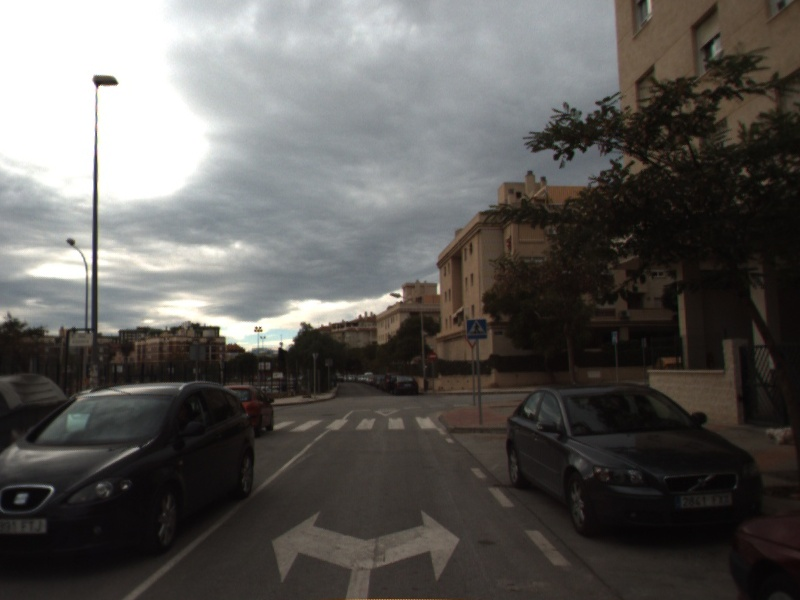LEFT_RIGHT: (269, 505, 463, 600)
